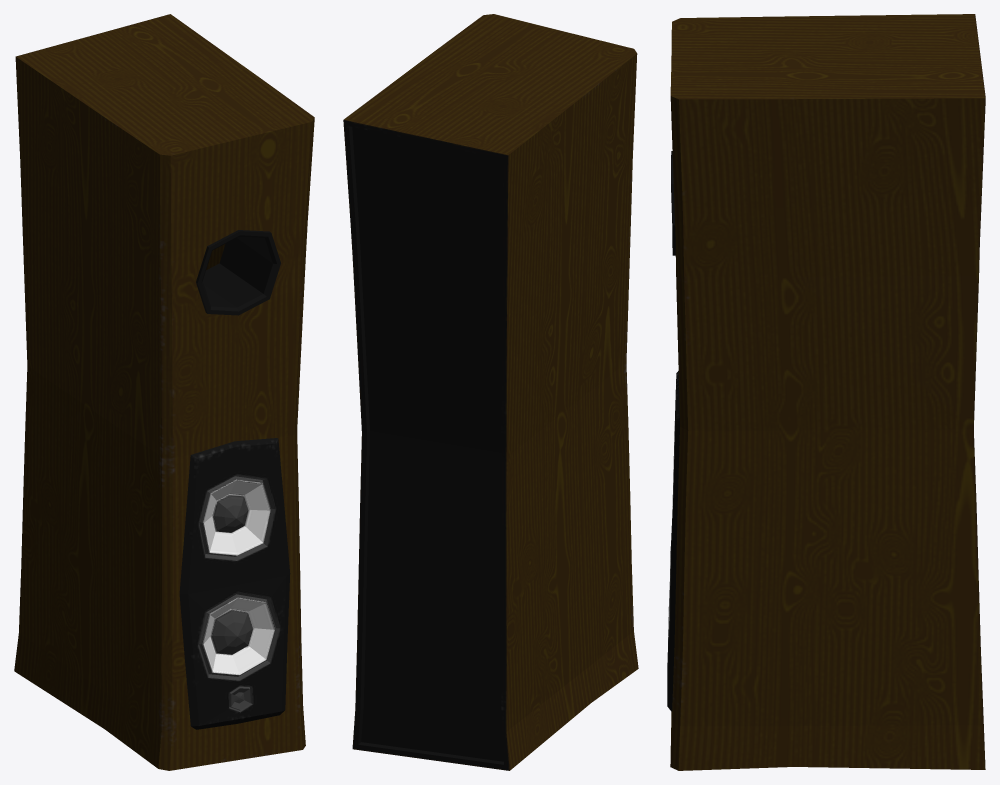
Rendered from leftSpeaker.glb.
3 views of the same model, side by side, from view 1: azimuth 30°, elevation 25°; view 2: azimuth 150°, elevation 25°; view 3: azimuth 270°, elevation 25° (orthographic). The views are drawn at different scales.
Visible parts, largest first — view 1: Object_2.001; view 2: Object_2.001; view 3: Object_2.001.
Boxes of the visible parts, left/top/right/bottom form: Object_2.001: left=14, top=14, right=314, bottom=770; Object_2.001: left=343, top=14, right=638, bottom=770; Object_2.001: left=667, top=14, right=985, bottom=770.
Bounding box in the file's own units: 0.8622 × 3.16 × 1.35.
1 material, 1 textured.
